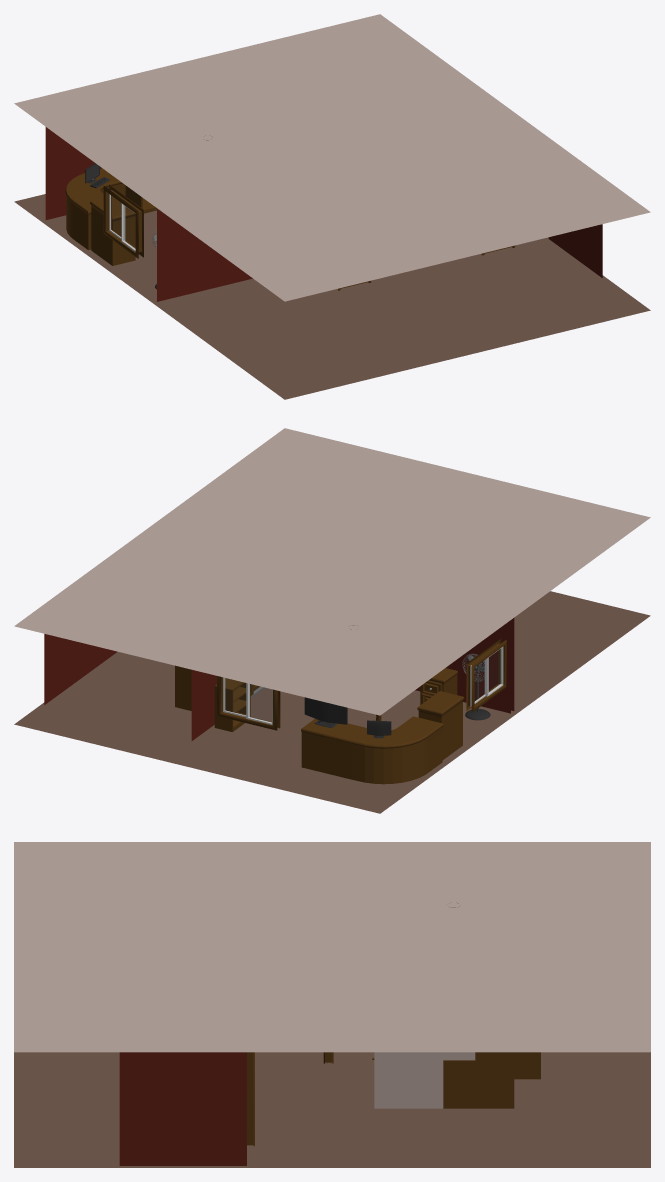
The model's file is Room.fbx.
3 renders of one model, top to bottom at view 1: azimuth 30°, elevation 25°; view 2: azimuth 150°, elevation 25°; view 3: azimuth 270°, elevation 25°, orthographic. The views are drawn at different scales.
Parts seen in each view (by area): view 1: Ceiling, Carpet1, Walls1, Desk, Dresser, Bedroom1; view 2: Ceiling, Carpet1, Desk, Walls1, Dresser, Bedroom1, Bookshelf, TV, Bedroom, Shelves; view 3: Ceiling, Carpet1, Walls1, Shelves, Bookshelf, Hallway1.
Boxes of the visible parts, bbox=[...] form: Ceiling: bbox=[14, 14, 650, 301]; Carpet1: bbox=[14, 194, 650, 399]; Walls1: bbox=[45, 127, 602, 301]; Desk: bbox=[65, 168, 156, 249]; Dresser: bbox=[90, 196, 135, 265]; Bedroom1: bbox=[103, 184, 143, 258]; Ceiling: bbox=[14, 428, 650, 715]; Carpet1: bbox=[14, 591, 650, 813]; Desk: bbox=[301, 716, 443, 784]; Walls1: bbox=[44, 618, 514, 740]; Dresser: bbox=[417, 691, 464, 759]; Bedroom1: bbox=[466, 638, 506, 712]; Bookshelf: bbox=[214, 678, 250, 731]; TV: bbox=[304, 697, 347, 727]; Bedroom: bbox=[217, 676, 280, 730]; Shelves: bbox=[175, 665, 191, 710]; Ceiling: bbox=[14, 842, 650, 1052]; Carpet1: bbox=[14, 1052, 650, 1167]; Walls1: bbox=[119, 1052, 475, 1165]; Shelves: bbox=[443, 1052, 514, 1108]; Bookshelf: bbox=[514, 1052, 540, 1079]; Hallway1: bbox=[247, 1052, 254, 1146].
Size of the model in its own units: 31.39 by 8.16 by 40.
